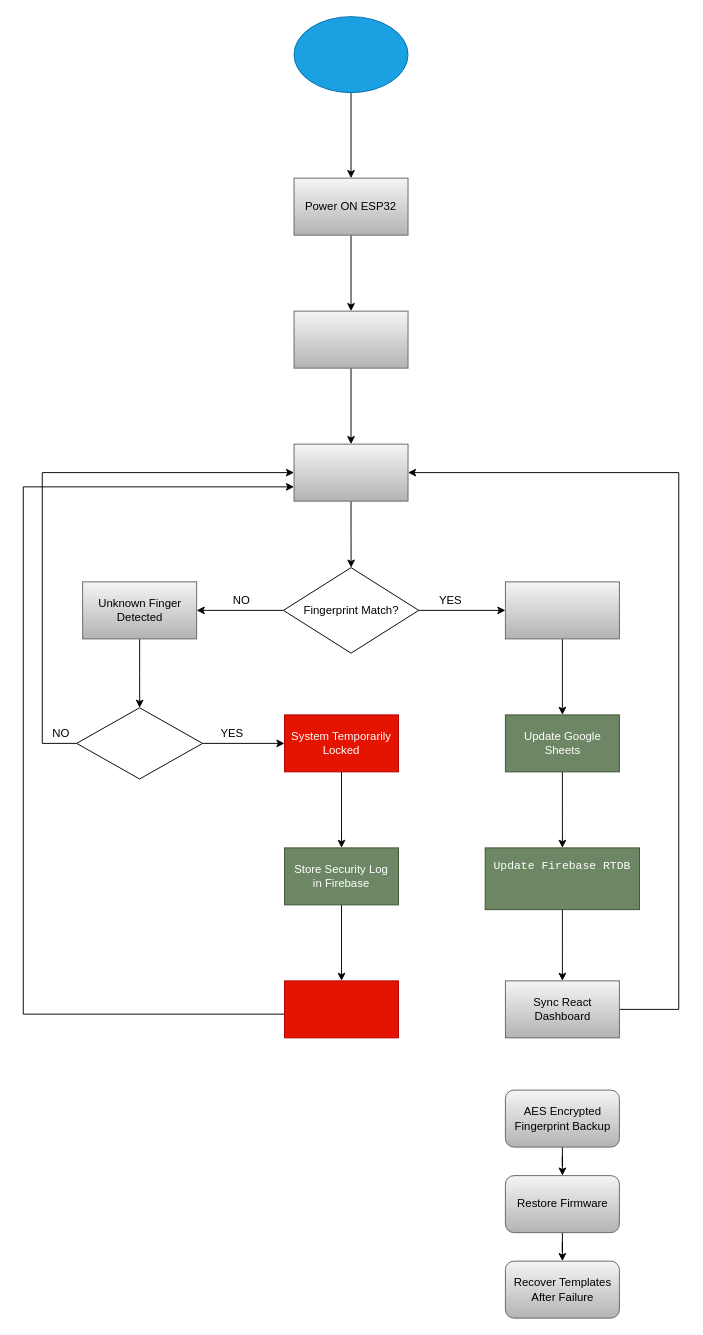
Image size: 703x1335. Some labels were removed from this diagram. The shapes that lost their labels are listed below. From the top down, each one's centre as x and y in pixels, then its label:
point 350,54: START
point 350,339: Initialize WiFi, Firebase, Fingerprint Sensor
point 350,472: Scan Fingerprint
point 561,610: Mark Attendance (IN / OUT)
point 139,743: Attempts > 5 ?
point 341,1009: Auto Unlock After 30 Seconds
